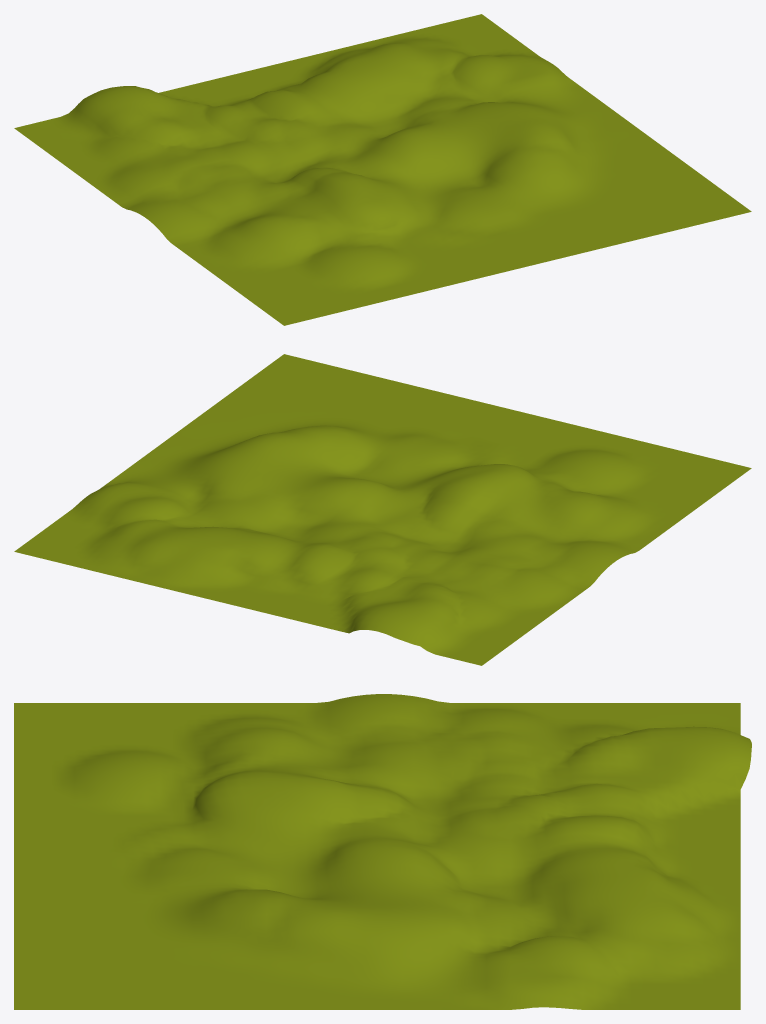
File: WG_BASEBG_Floor.fbx
3 renders of one model, top to bottom at view 1: azimuth 30°, elevation 25°; view 2: azimuth 150°, elevation 25°; view 3: azimuth 270°, elevation 25°, orthographic. The views are drawn at different scales.
Parts seen in each view (by area): view 1: pPlane1; view 2: pPlane1; view 3: pPlane1.
Boxes of the visible parts, <box> form: pPlane1: <box>14,14,751,325</box>; pPlane1: <box>14,354,751,665</box>; pPlane1: <box>14,694,751,1009</box>.
Size of the model in its own units: 30 by 1.52 by 30.47.
